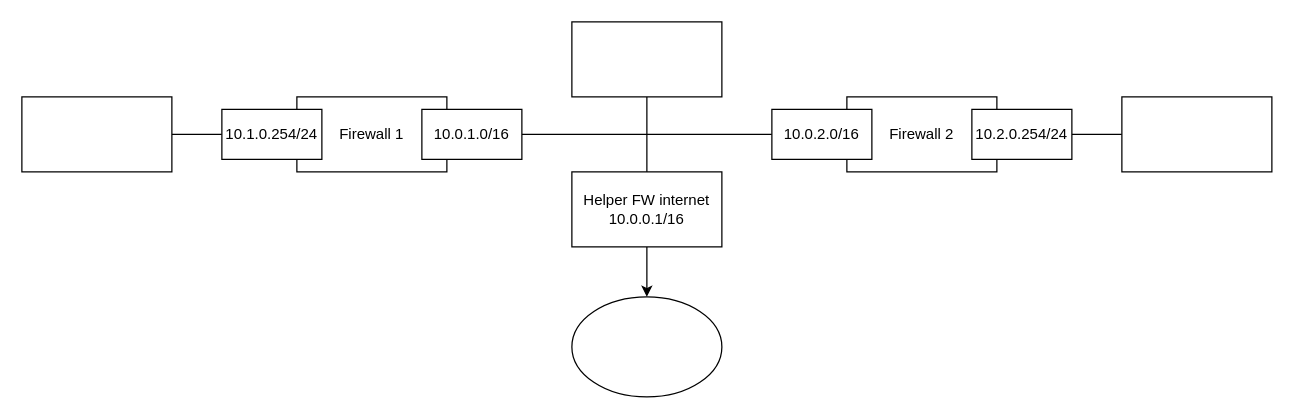
This 1294x419 diagram has some shape labels left out. The shapes that lost their labels are listed below. From the top down, each one's centre as x and y in pixels, then its label:
At (646,59): "Server 10.0.3.1/16".
At (96,134): "Client 1 10.1.0.1/24".
At (1196,134): "Client 2 10.2.0.1/24".
At (646,346): "Internet".
